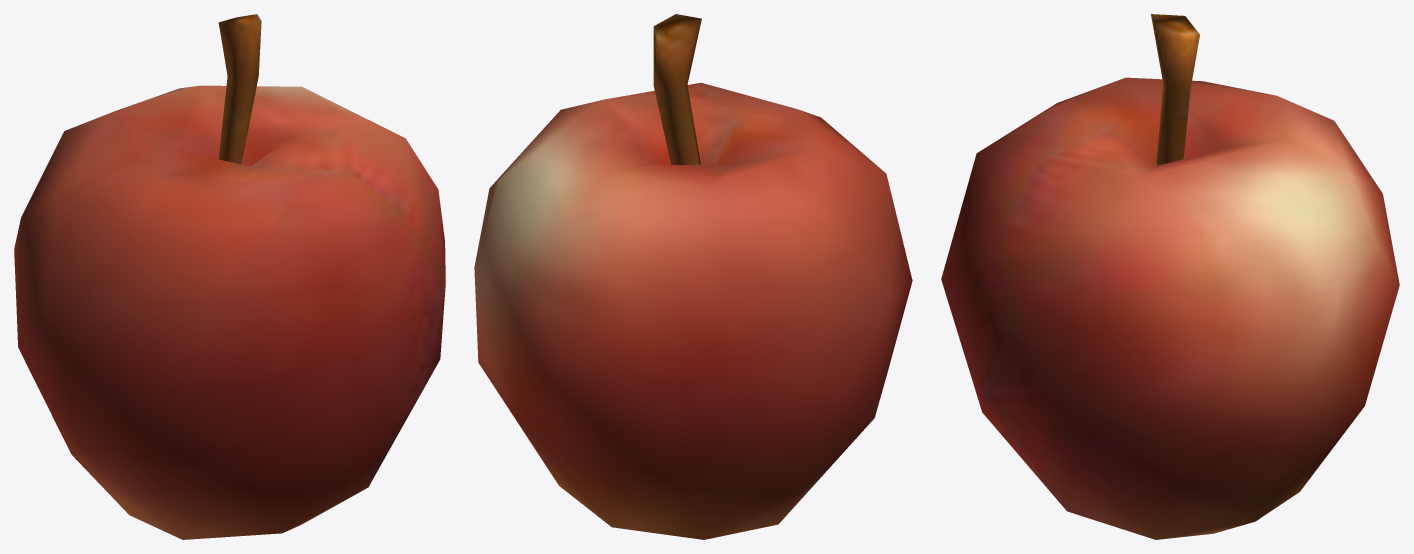
File: SM_aple_00.gltf
The picture shows the model from 3 angles, left to right: view 1: azimuth 30°, elevation 25°; view 2: azimuth 150°, elevation 25°; view 3: azimuth 270°, elevation 25°; orthographic projection. The views are drawn at different scales.
Visible parts, largest first — view 1: SM_aple_00; view 2: SM_aple_00; view 3: SM_aple_00.
Part boxes in pixels (bbox=[...]): SM_aple_00: bbox=[14, 14, 445, 539]; SM_aple_00: bbox=[474, 14, 912, 539]; SM_aple_00: bbox=[941, 14, 1399, 539].
Bounding box in the file's own units: 0.1507 × 0.1789 × 0.1524.
Materials: 1 (1 with a texture image).
